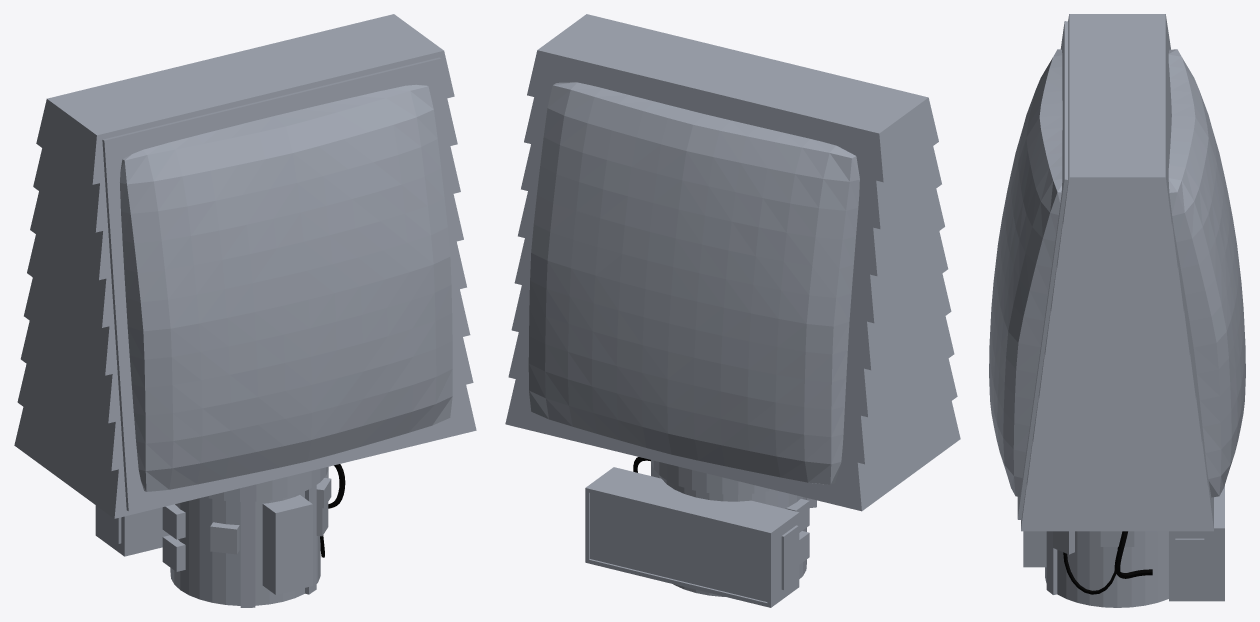
The model's file is spq9b.glb.
3 renders of one model, left to right at view 1: azimuth 30°, elevation 25°; view 2: azimuth 150°, elevation 25°; view 3: azimuth 270°, elevation 25°, orthographic. The views are drawn at different scales.
Parts seen in each view (by area): view 1: yaw, base; view 2: yaw, base; view 3: yaw, base.
Part boxes in pixels (box(x1,y1,x2,y2)): yaw: box(14, 14, 476, 518); base: box(95, 464, 345, 607); yaw: box(505, 14, 960, 511); base: box(585, 457, 816, 607); yaw: box(989, 14, 1245, 531); base: box(1023, 485, 1224, 607).
Bounding box in the file's own units: 2.09 × 2.75 × 1.33.
Materials: 1 (1 with a texture image).
